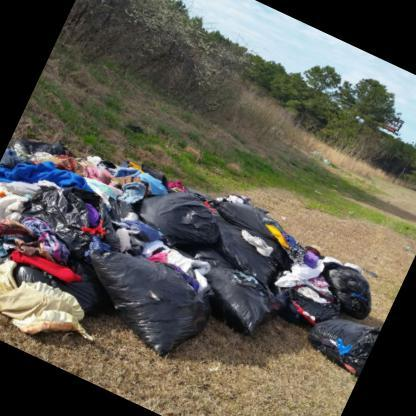Garbage: (0, 110, 379, 415), (68, 232, 216, 372), (0, 149, 93, 283), (114, 172, 236, 268), (190, 214, 306, 312), (0, 265, 94, 353), (292, 299, 380, 375)
